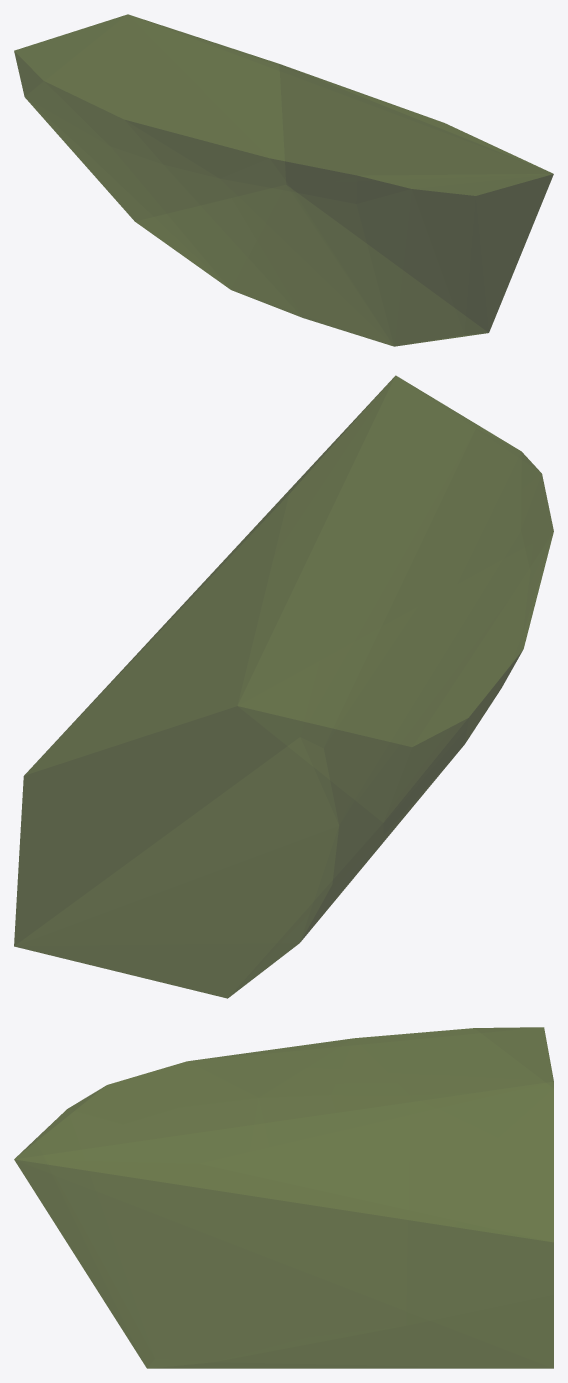
3 renders of one model, top to bottom at view 1: azimuth 30°, elevation 25°; view 2: azimuth 150°, elevation 25°; view 3: azimuth 270°, elevation 25°, orthographic. The views are drawn at different scales.
Visible parts, largest first — view 1: Shape_IndexedFaceSet.020_Shape_IndexedFaceSet.18173; view 2: Shape_IndexedFaceSet.020_Shape_IndexedFaceSet.18173; view 3: Shape_IndexedFaceSet.020_Shape_IndexedFaceSet.18173.
Boxes of the visible parts, x1,y1,x2,y2 form: Shape_IndexedFaceSet.020_Shape_IndexedFaceSet.18173: [14, 14, 553, 346]; Shape_IndexedFaceSet.020_Shape_IndexedFaceSet.18173: [14, 375, 553, 998]; Shape_IndexedFaceSet.020_Shape_IndexedFaceSet.18173: [14, 1027, 553, 1368].
Bounding box in the file's own units: 0.3084 × 0.2424 × 0.5091.
